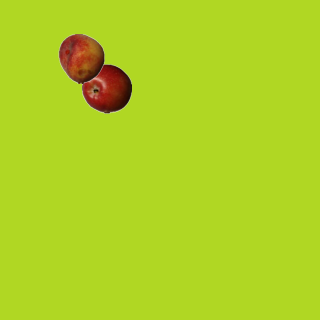Apple Braeburn: (81, 63, 131, 113)
Peach: (56, 33, 106, 83)
